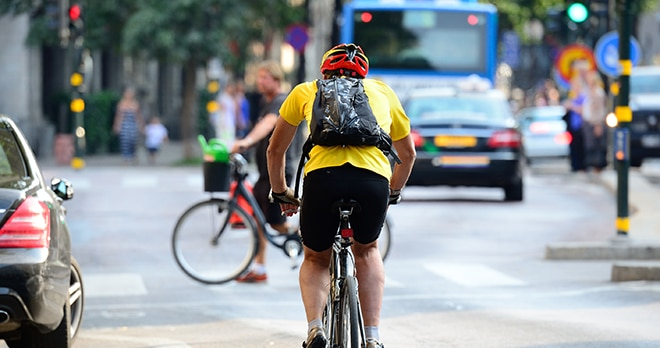commuter: (266, 42, 418, 348)
